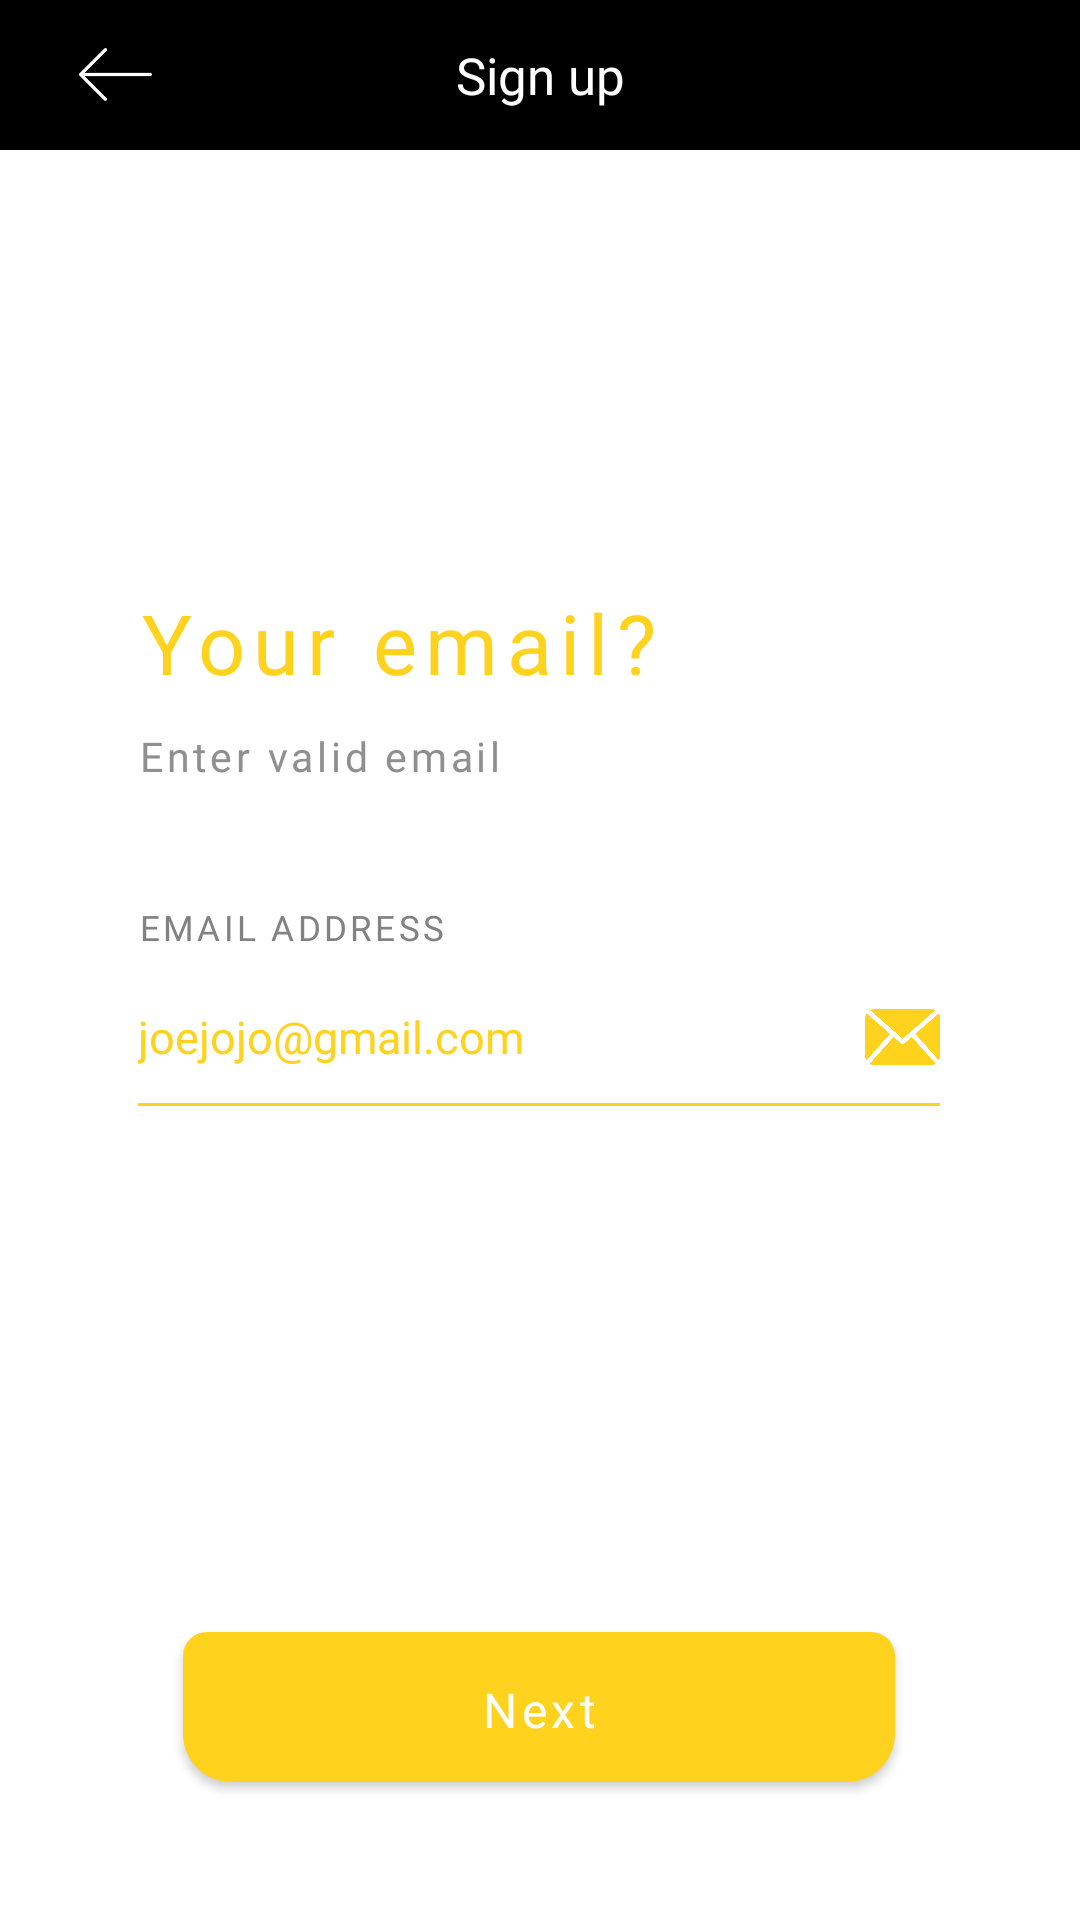

Named icons in this screenshot (1080w x 1920h) and their centers, point (x, y):
left arrow: point (115, 74)
mail envelope symbol: point (902, 1037)
